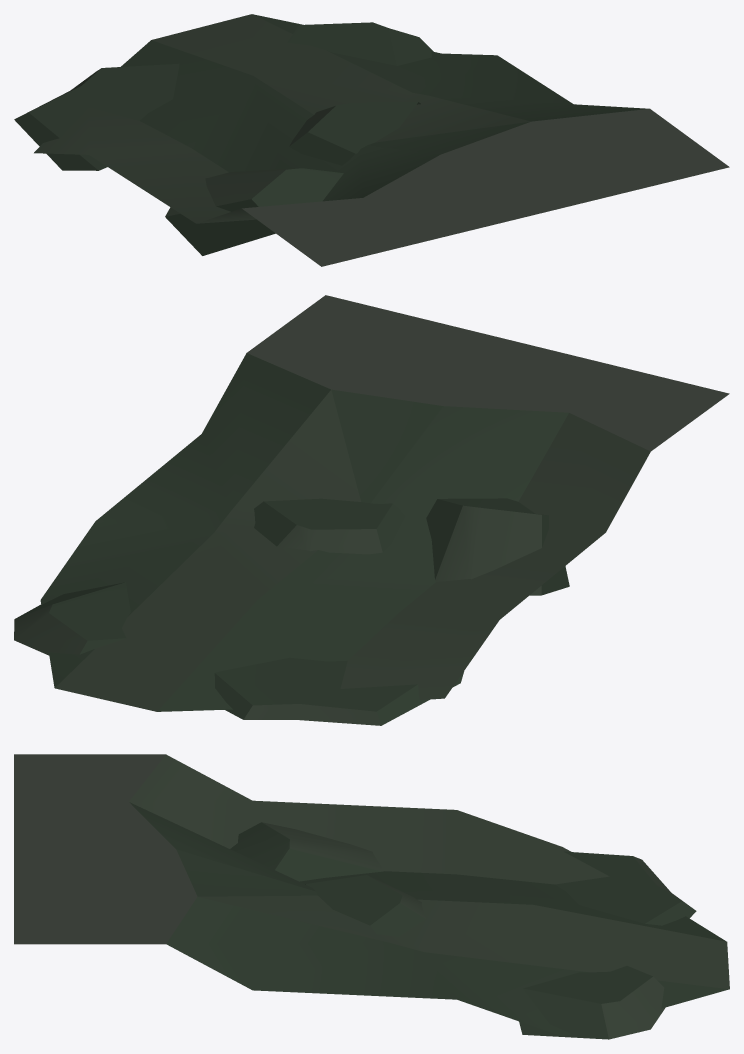
The model's file is SF_Env_River_Slope_02.glb.
The picture shows the model from 3 angles, top to bottom: view 1: azimuth 30°, elevation 25°; view 2: azimuth 150°, elevation 25°; view 3: azimuth 270°, elevation 25°; orthographic projection. The views are drawn at different scales.
Parts seen in each view (by area): view 1: SF_Env_River_Slope_02; view 2: SF_Env_River_Slope_02; view 3: SF_Env_River_Slope_02.
Part boxes in pixels (x1=…): SF_Env_River_Slope_02: x1=14, y1=14, x2=729, y2=266; SF_Env_River_Slope_02: x1=14, y1=295, x2=729, y2=725; SF_Env_River_Slope_02: x1=14, y1=754, x2=729, y2=1039.
Size of the model in its own units: 0.1005 by 0.0233 by 0.1595.
1 material, 1 textured.
